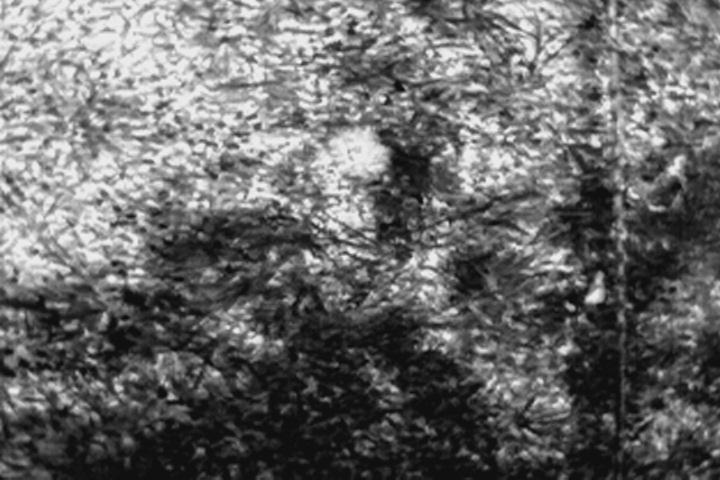landmine: (331, 124, 390, 178)
